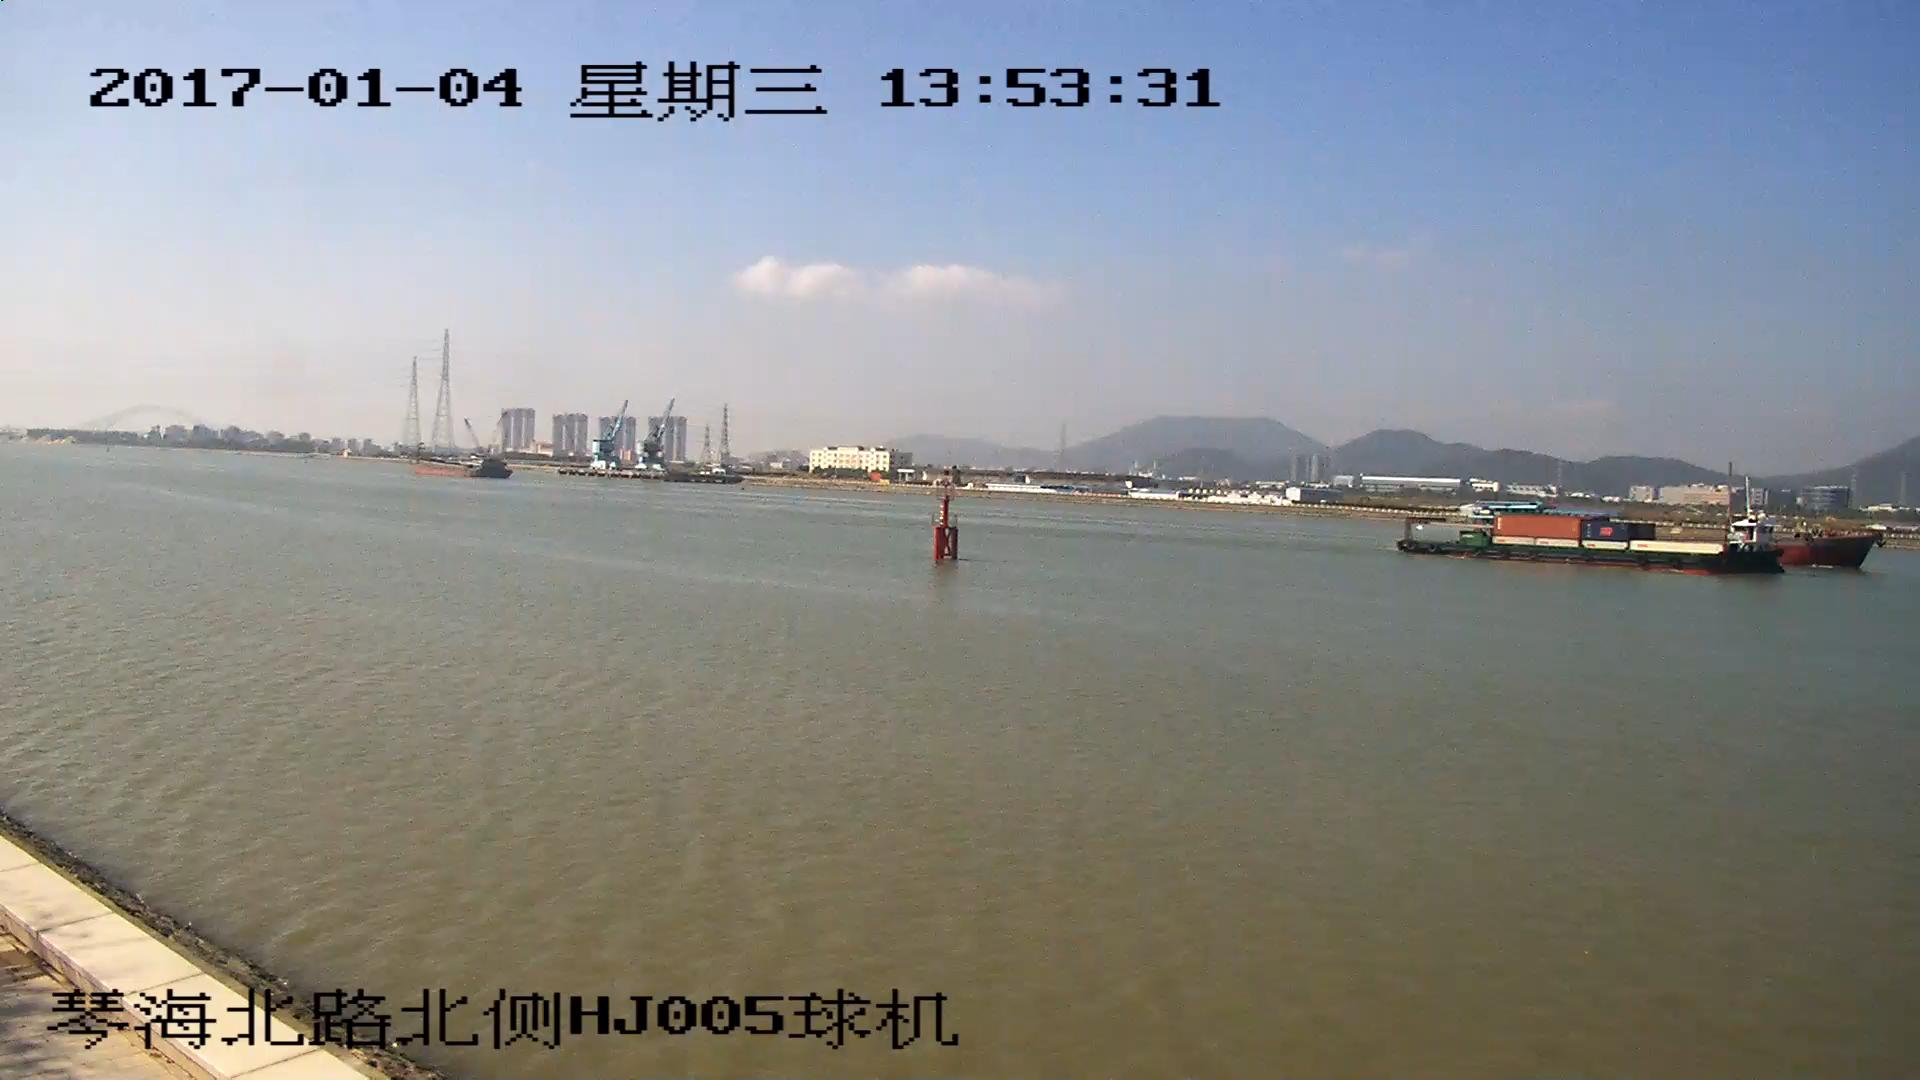container ship: (1405, 507, 1787, 575)
